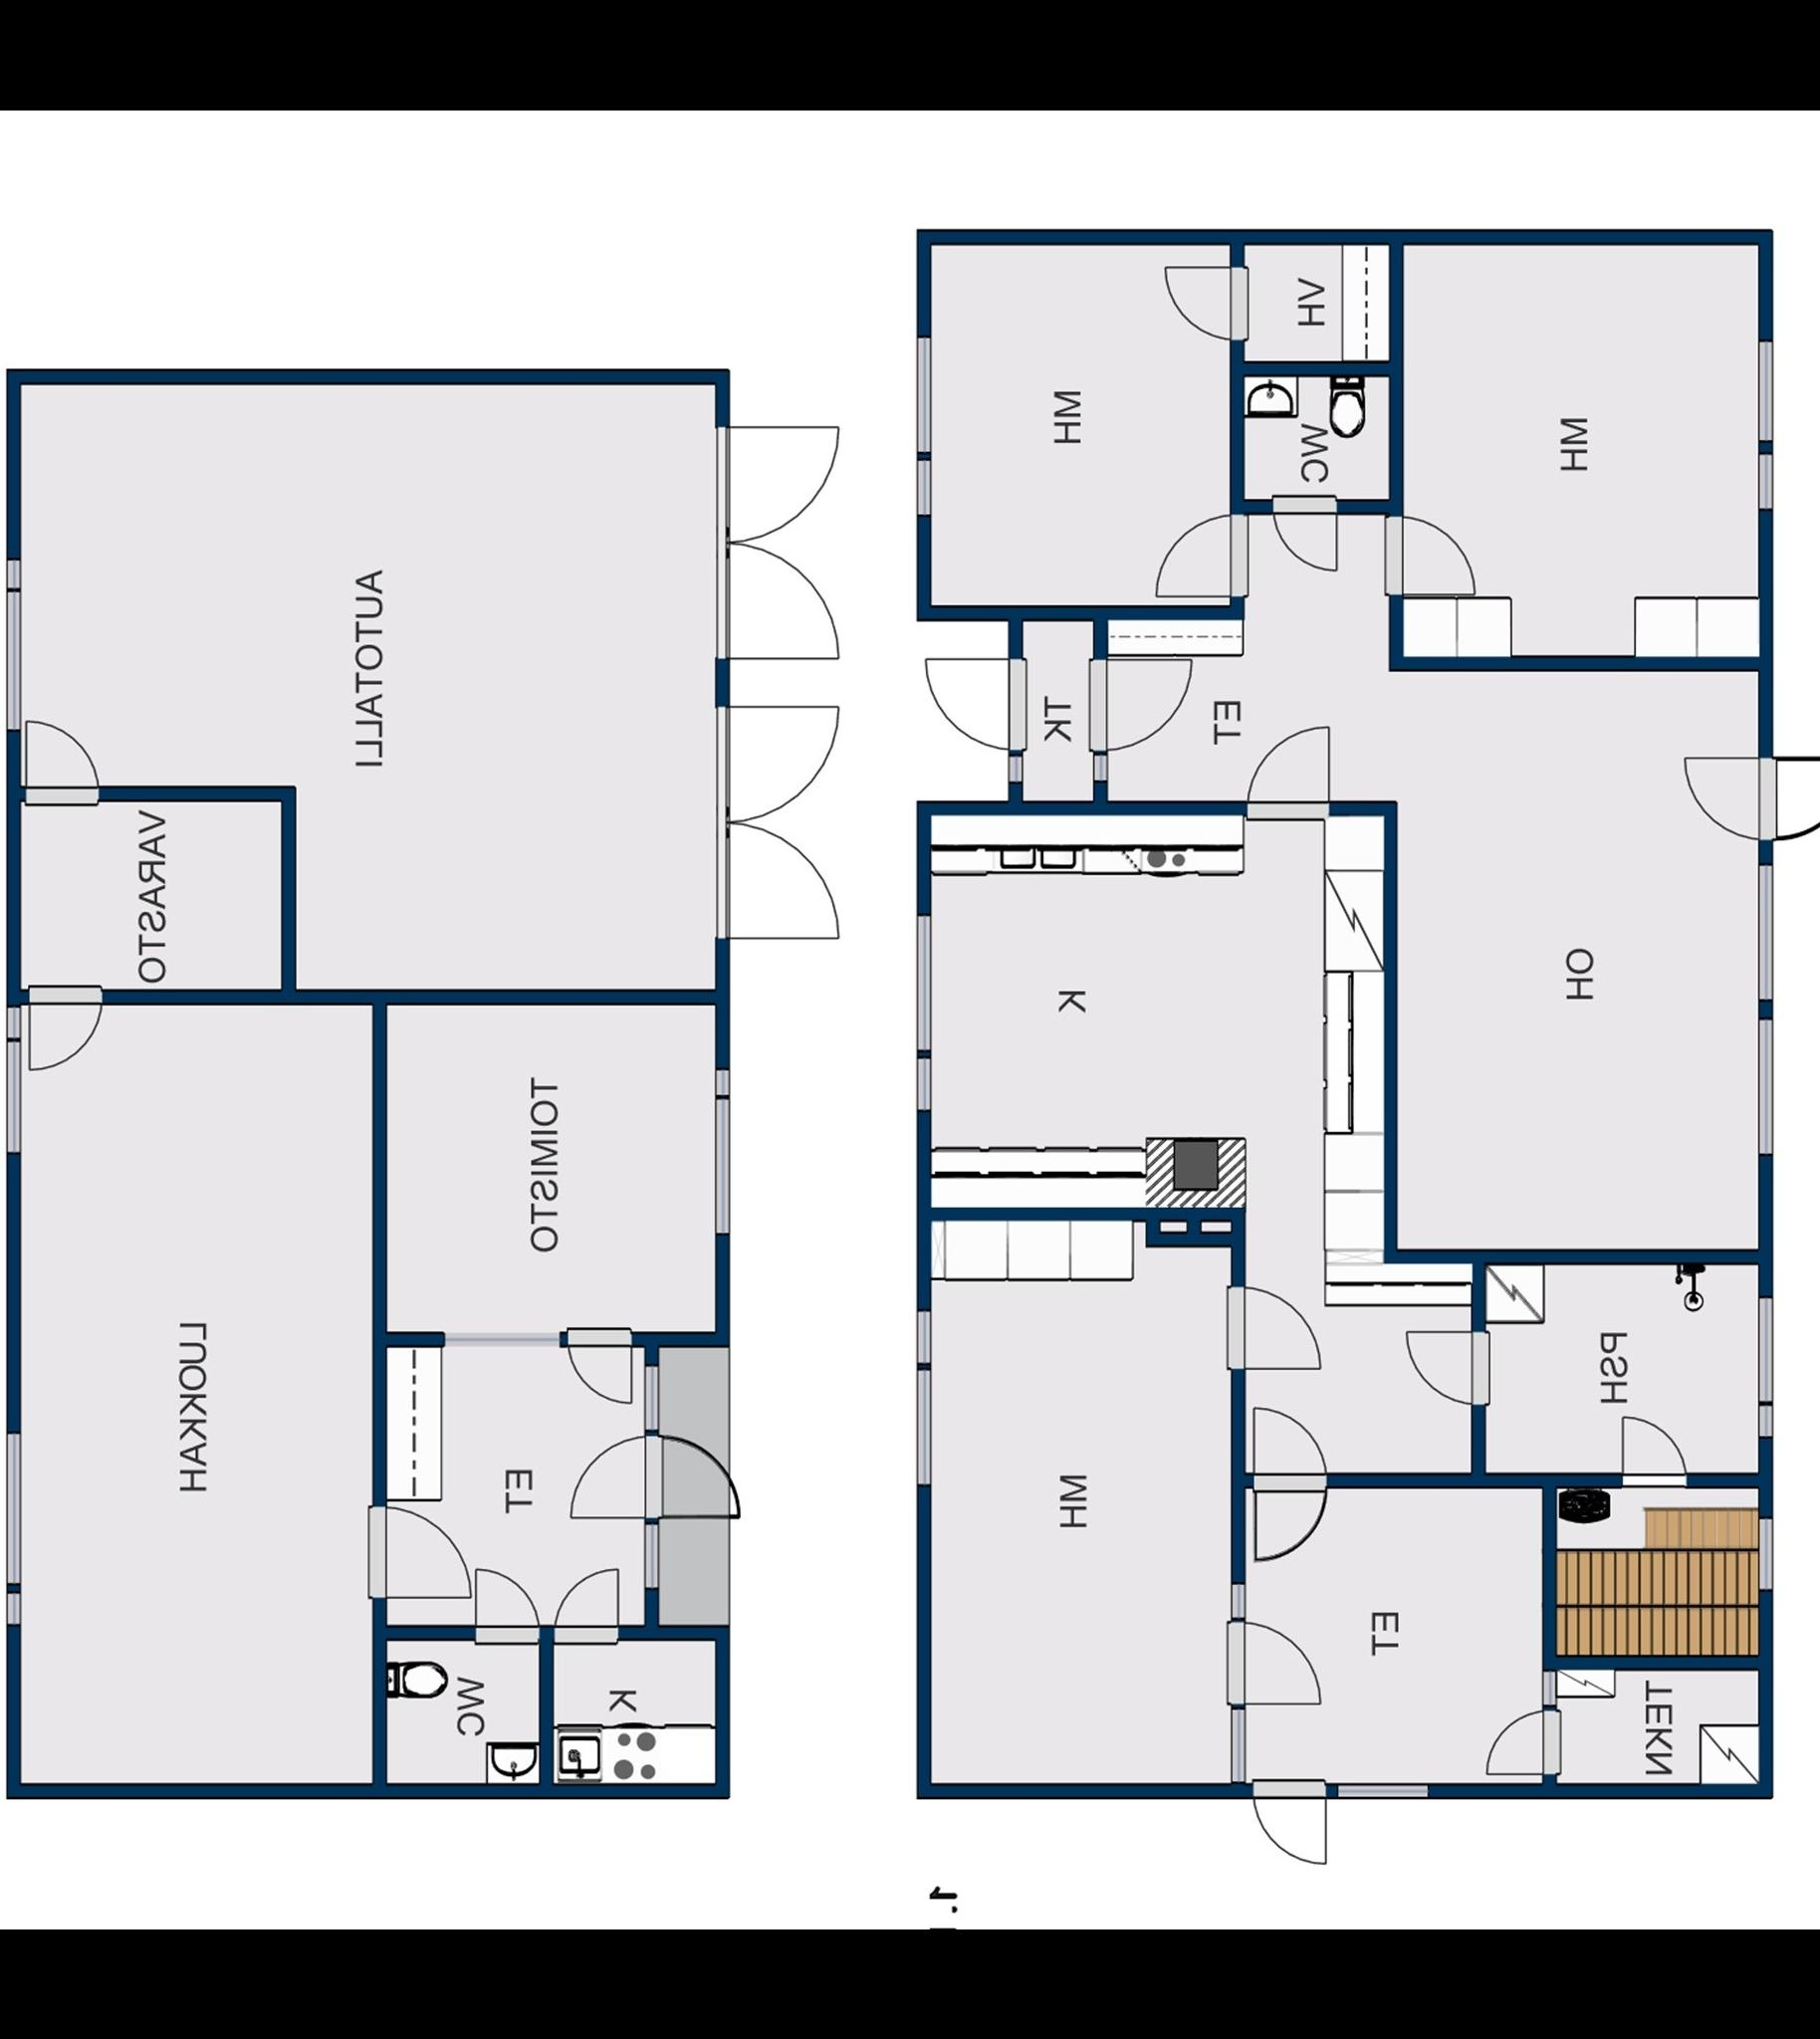door: (704, 815, 849, 952), (704, 413, 841, 551), (696, 537, 840, 667), (713, 694, 847, 832), (921, 653, 1040, 764), (353, 1498, 474, 1607), (1073, 645, 1189, 753), (631, 1428, 745, 1524), (1151, 248, 1254, 353), (1142, 504, 1249, 606), (1672, 746, 1785, 841), (1377, 504, 1479, 608), (566, 1428, 668, 1530), (1235, 713, 1333, 818), (7, 708, 104, 815), (1216, 1284, 1323, 1380), (1221, 1616, 1319, 1714), (1246, 1769, 1342, 1865), (25, 976, 109, 1087), (1393, 1321, 1493, 1410), (1240, 1405, 1340, 1493), (553, 1317, 645, 1410), (1606, 1409, 1701, 1496), (1249, 1475, 1332, 1572), (1748, 745, 1820, 855), (1268, 490, 1351, 574), (1486, 1695, 1564, 1784), (557, 1561, 625, 1658), (473, 1575, 548, 1640)
window: (1744, 998, 1785, 1182), (1748, 852, 1785, 1029), (903, 1358, 945, 1498), (699, 1094, 740, 1238), (1748, 330, 1790, 455), (429, 1321, 569, 1358), (0, 1423, 28, 1595), (903, 320, 936, 464), (908, 899, 935, 1059), (0, 583, 26, 741), (1751, 1289, 1785, 1414), (1319, 1777, 1437, 1811), (0, 1031, 28, 1170), (1748, 1493, 1780, 1609), (1216, 1700, 1253, 1797), (1751, 437, 1790, 520), (636, 1516, 671, 1595), (903, 450, 935, 534), (634, 1352, 664, 1438), (908, 1050, 943, 1122), (1744, 1400, 1780, 1465), (0, 994, 28, 1050), (0, 1581, 25, 1644), (915, 1301, 938, 1368), (0, 546, 28, 597), (703, 1059, 733, 1105), (1230, 1579, 1254, 1630)
